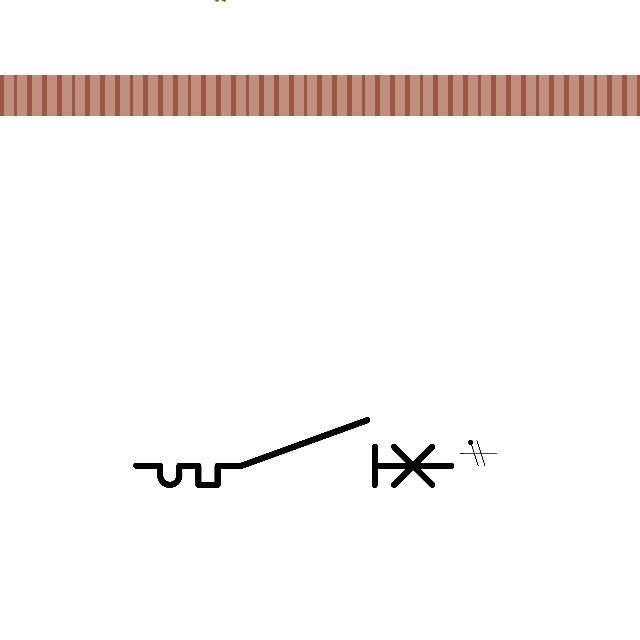interruptor_termomagnetico: (128, 412, 459, 493)
